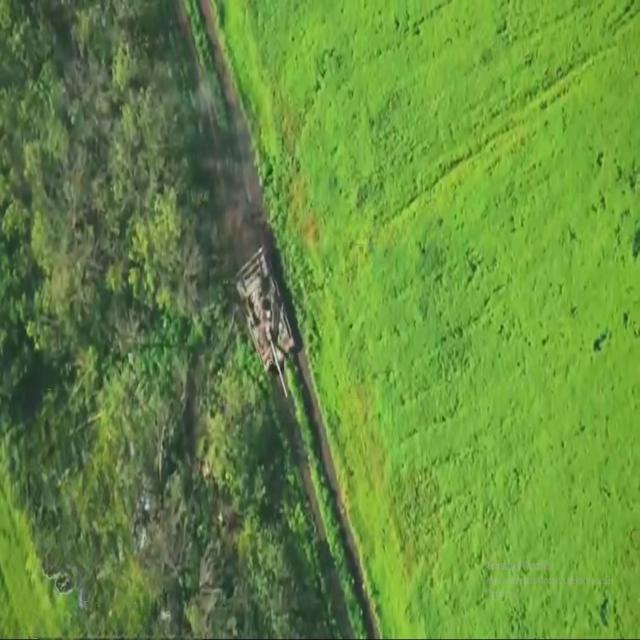MBT: (235, 245, 301, 401)
